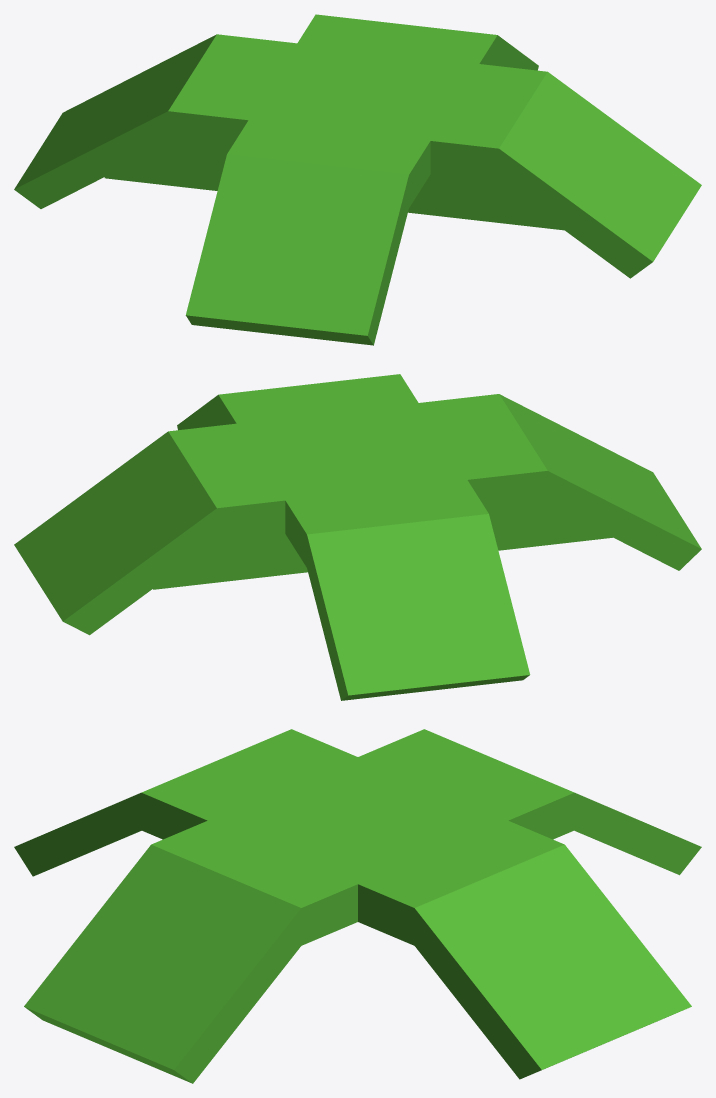
File: green_base.obj
3 renders of one model, top to bottom at view 1: azimuth 30°, elevation 25°; view 2: azimuth 150°, elevation 25°; view 3: azimuth 270°, elevation 25°, orthographic. The views are drawn at different scales.
Parts seen in each view (by area): view 1: detail_fenderSquare_2, detail_fenderSquare_4; view 2: detail_fenderSquare_4, detail_fenderSquare_2; view 3: detail_fenderSquare_2, detail_fenderSquare_4.
Boxes of the visible parts, box(x1,y1,x2,y2) form: detail_fenderSquare_2: box(14, 34, 701, 278); detail_fenderSquare_4: box(185, 14, 538, 345); detail_fenderSquare_4: box(14, 394, 701, 635); detail_fenderSquare_2: box(177, 374, 530, 700); detail_fenderSquare_2: box(24, 729, 701, 1083); detail_fenderSquare_4: box(14, 729, 691, 1079).
Size of the model in its own units: 0.9998 by 0.2114 by 1.01.
